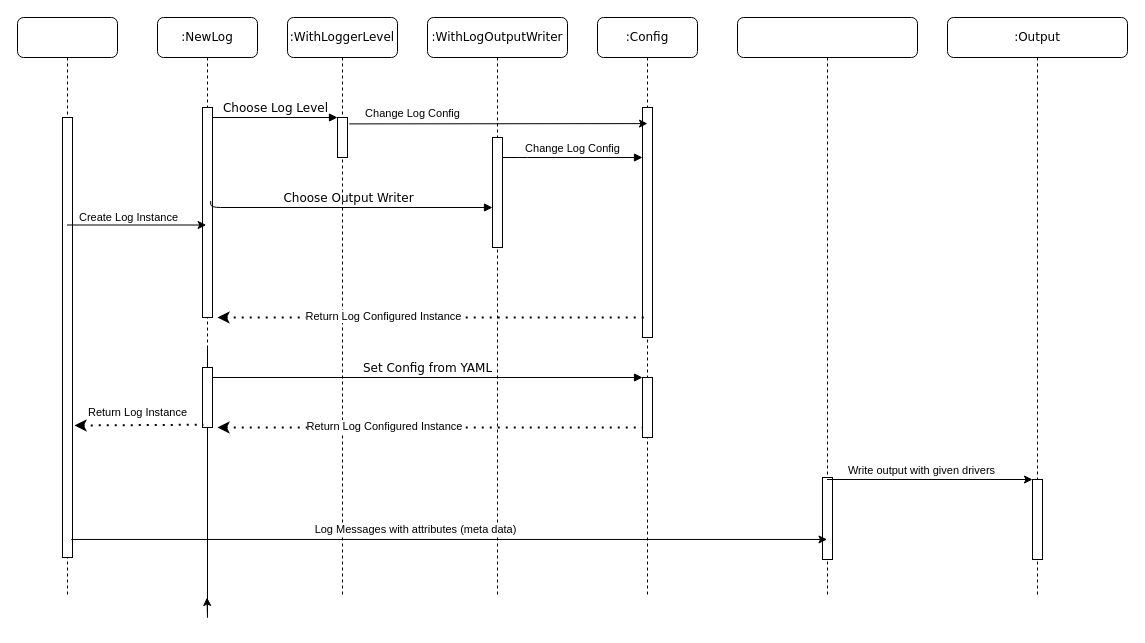
This 1145x643 diagram has some shape labels left out. The shapes that lost their labels are listed below. From the top down, each one's box as (x1, y1, x2, y2) in pixels, then its label:
(16, 16, 118, 598): User
(736, 16, 918, 598): :Info/Warning/Error/Debug
